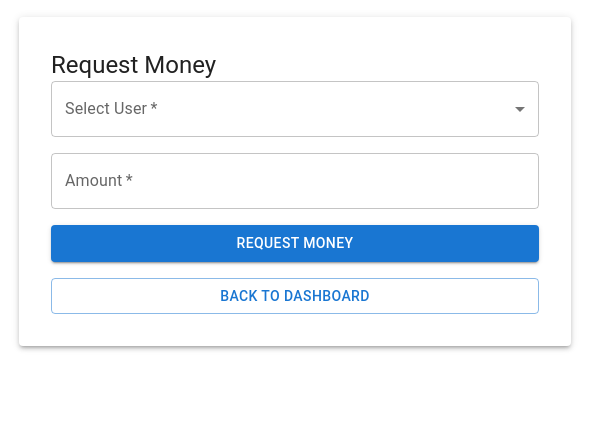
Test: RequestMoney › creates a money request for another user
Click the dropdown named "Select User".
click(295, 109)  # box x1=51 y1=81 x2=539 y2=137
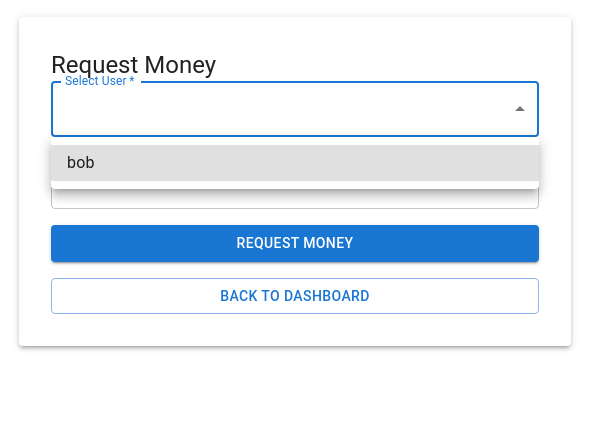
Click the option "bob".
click(81, 162)  # box x1=51 y1=145 x2=539 y2=181
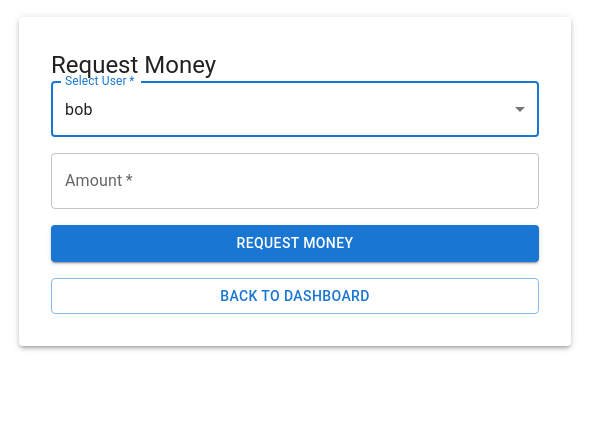
Type "20" into the number field labelled "Amount *".
click(295, 181); type("20")  # box x1=51 y1=153 x2=539 y2=209
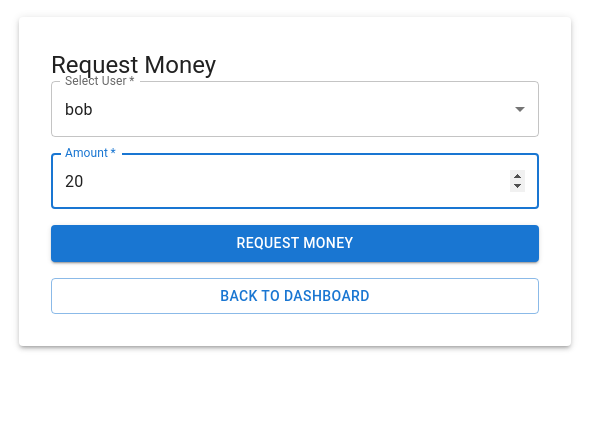
Click the button "Request Money".
click(295, 243)  # box x1=51 y1=225 x2=539 y2=262
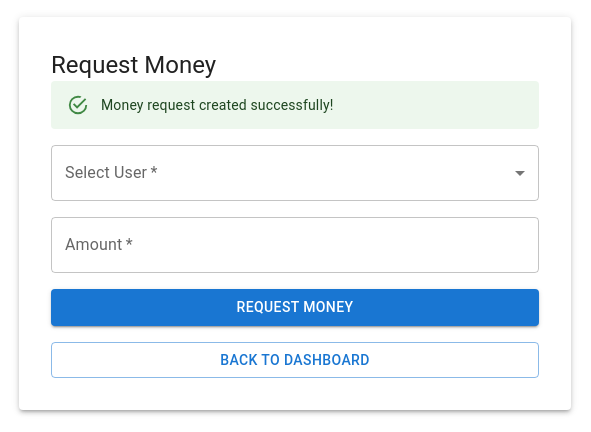
Expected: the text "Money request created successfully!" is shown, x1=101 y1=97 x2=334 y2=113
